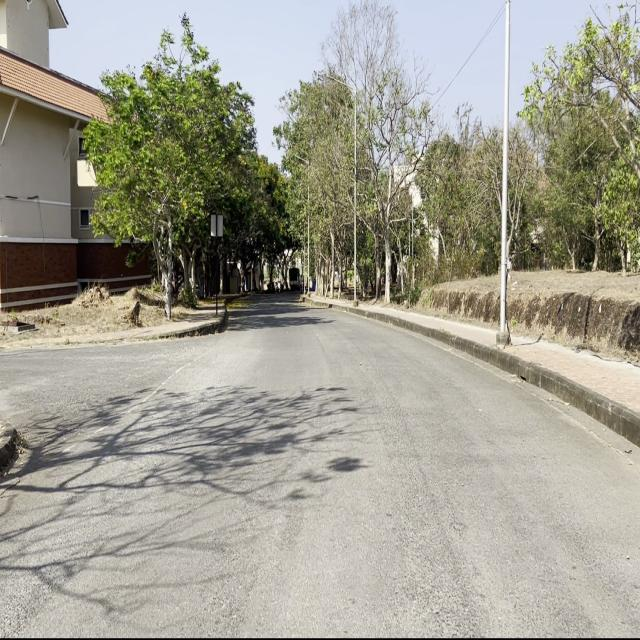Road: (3, 297, 638, 632)
